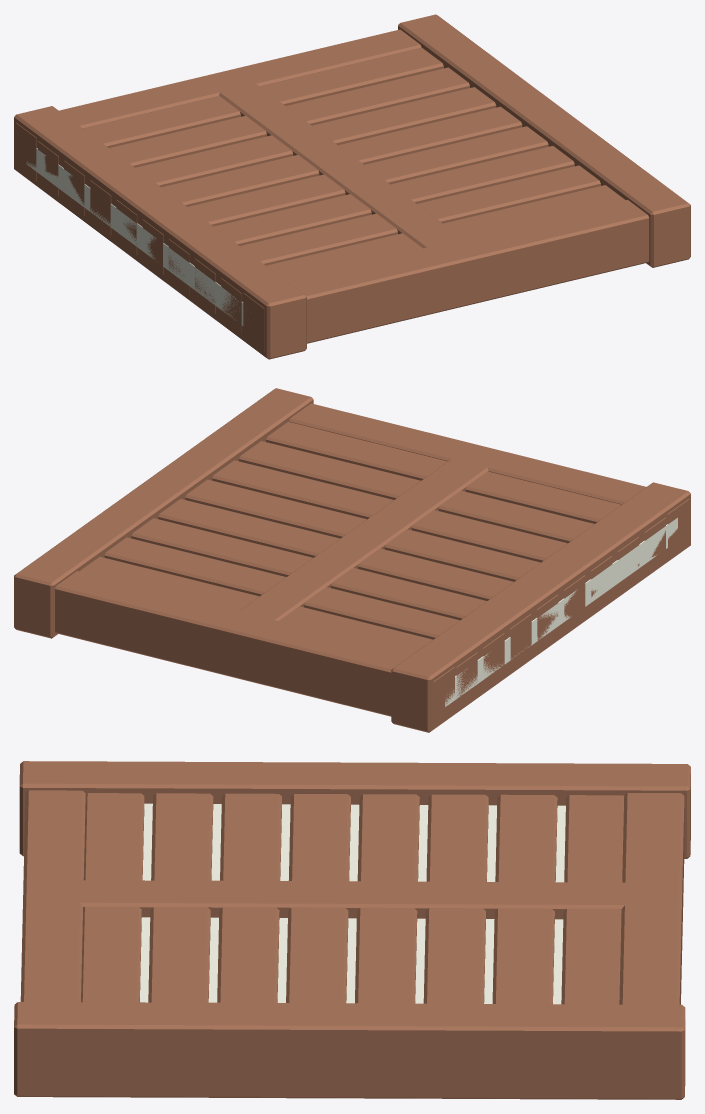
File: Ground.fbx
3 views of the same model, one above another, from view 1: azimuth 30°, elevation 25°; view 2: azimuth 150°, elevation 25°; view 3: azimuth 270°, elevation 25° (orthographic). The views are drawn at different scales.
Visible parts, largest first — view 1: Ground; view 2: Ground; view 3: Ground.
Boxes of the visible parts, box(x1,y1,x2,y2) form: Ground: box(14, 14, 690, 359); Ground: box(14, 388, 690, 732); Ground: box(14, 761, 690, 1099).
Size of the model in its own units: 213 by 26.82 by 226.
